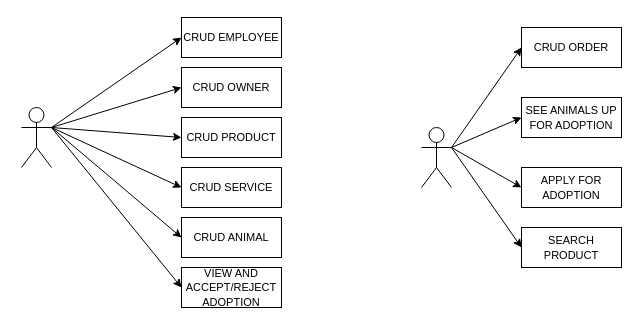
Some shapes in this 639 by 326 pixel diagram are drawn without their labels. Each missing label, with the centre of its shape:
ADMIN: (x=36, y=137)
OWNER: (x=436, y=157)
